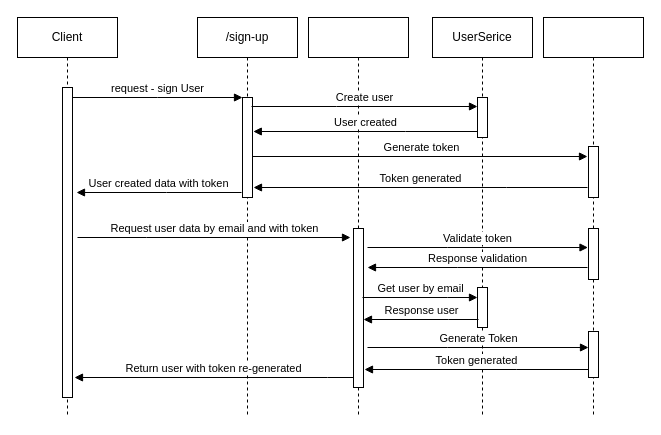
Image size: 661x435. Some labels were removed from this diagram. The shapes that lost their labels are listed below. From the top down, each one's box as (x1, y1, x2, y2) in pixels, then its label:
(308, 16, 408, 418): /login
(542, 16, 644, 418): JwtUtil
